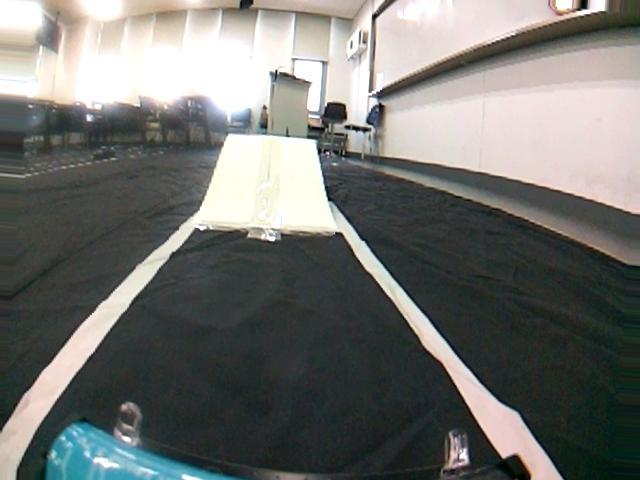hill_up: (4, 128, 636, 242)
straight: (0, 217, 637, 480)
